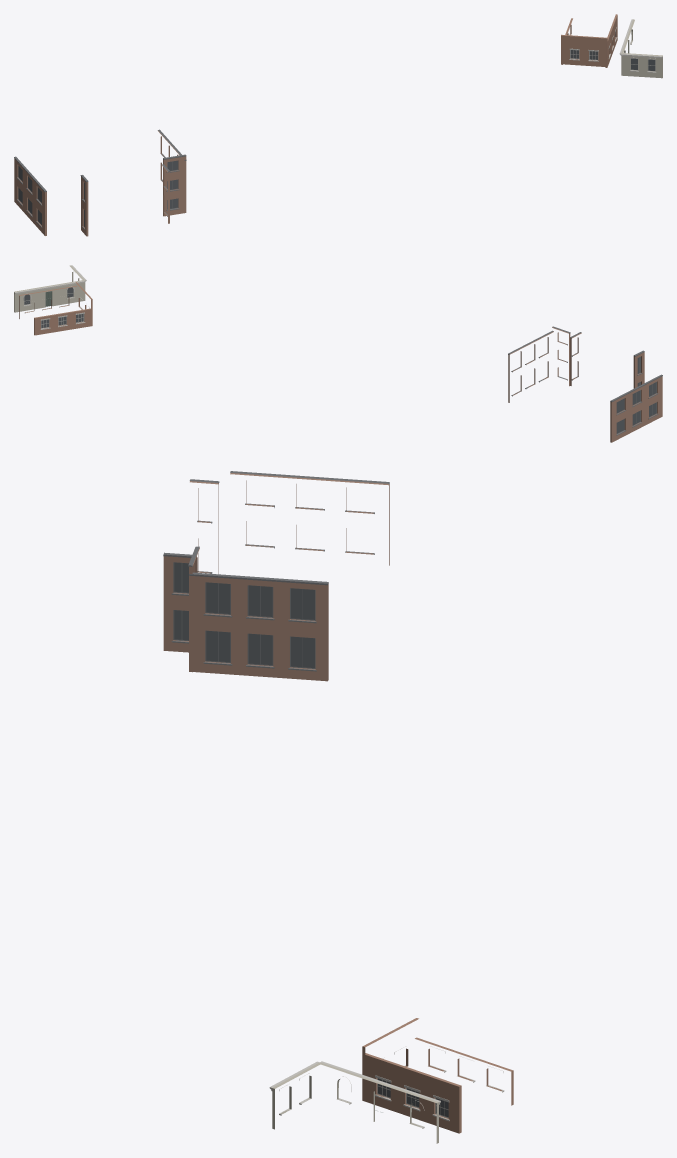
3 renders of one model, top to bottom at view 1: azimuth 30°, elevation 25°; view 2: azimuth 150°, elevation 25°; view 3: azimuth 270°, elevation 25°, orthographic. The views are drawn at different scales.
Parts seen in each view (by area): view 1: f:way/161910753, f:way/210219928, f:way/210219935; view 2: f:way/161910753, f:way/210219935, f:way/210219928; view 3: f:way/161910753, f:way/210219928, f:way/210219935.
Boxes of the visible parts, x1=… form: f:way/161910753: x1=14, y1=129, x2=186, y2=236; f:way/210219928: x1=561, y1=14, x2=617, y2=67; f:way/210219935: x1=619, y1=19, x2=662, y2=78; f:way/161910753: x1=508, y1=326, x2=662, y2=442; f:way/210219935: x1=14, y1=265, x2=86, y2=312; f:way/210219928: x1=19, y1=282, x2=92, y2=335; f:way/161910753: x1=163, y1=471, x2=389, y2=681; f:way/210219928: x1=362, y1=1018, x2=513, y2=1133; f:way/210219935: x1=269, y1=1061, x2=440, y2=1143.
Bounding box in the file's own units: 94.44 × 8.54 × 23.95.
